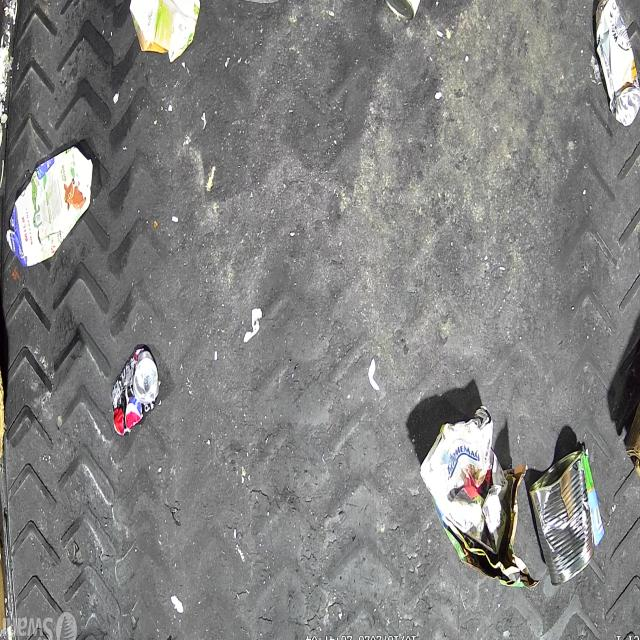can: (528, 450, 596, 588), (596, 0, 640, 128), (111, 346, 159, 435), (384, 0, 432, 19)
non_white_jug: (7, 146, 92, 267), (130, 0, 202, 63)
